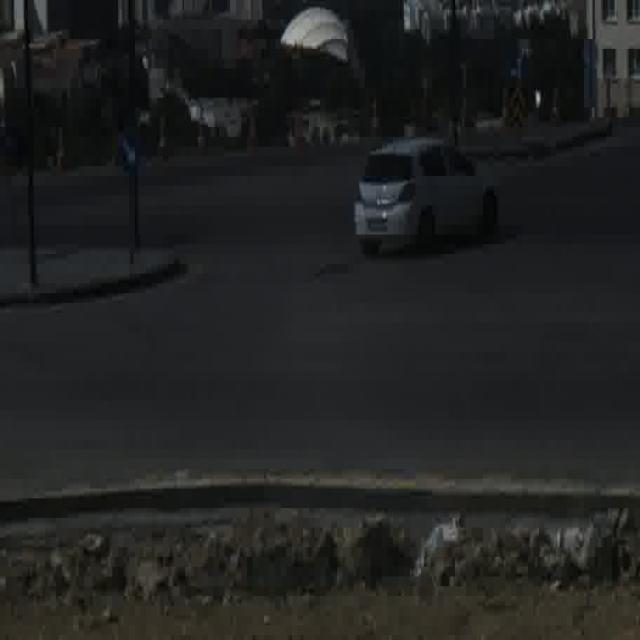Car: (352, 132, 501, 259)
